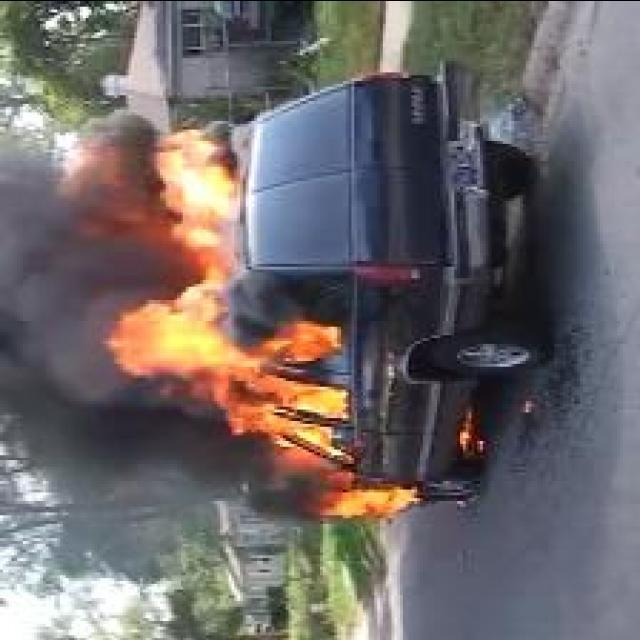Fire: (62, 128, 350, 456), (322, 486, 418, 520)
